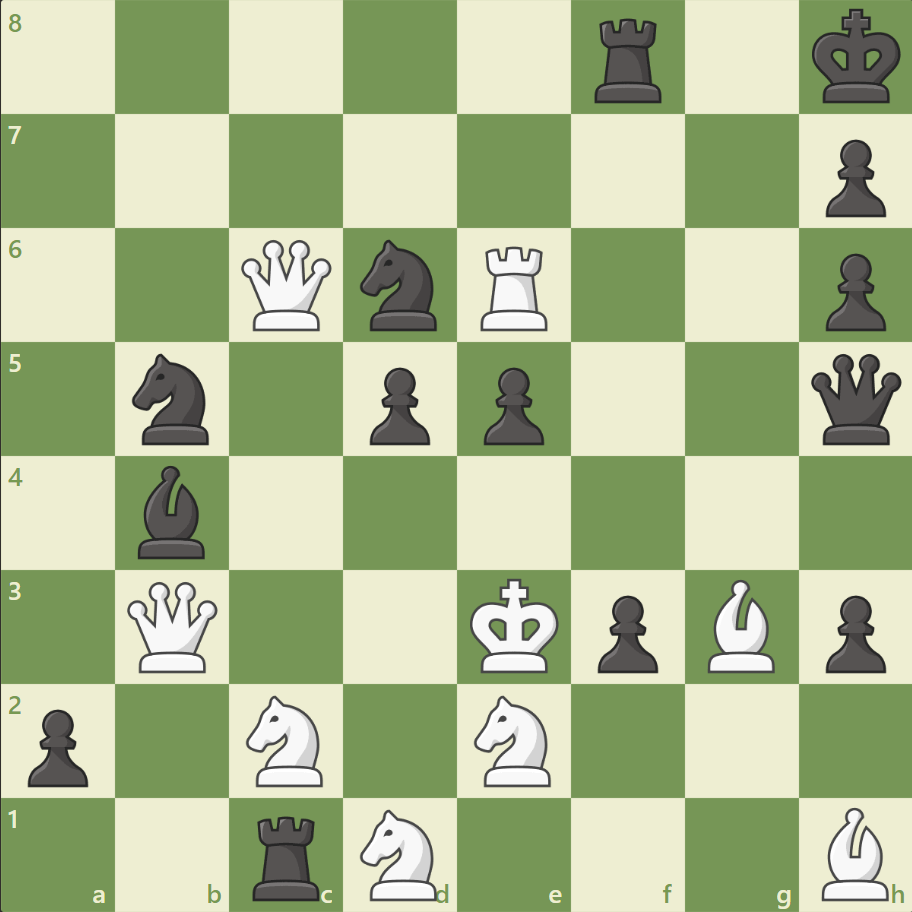B: (812, 801, 896, 904), (698, 574, 782, 676)
K: (465, 571, 565, 679)
N: (351, 802, 449, 904), (238, 688, 335, 791), (465, 688, 562, 791)
Q: (124, 576, 223, 676), (237, 236, 336, 335)
R: (473, 239, 556, 336)
b: (131, 460, 215, 563)
k: (806, 4, 906, 112)
n: (351, 234, 449, 337), (124, 348, 222, 450)
p: (474, 359, 549, 450), (20, 700, 95, 791), (815, 132, 889, 223), (815, 246, 889, 337), (361, 359, 435, 450), (588, 586, 662, 677), (815, 586, 889, 677)
q: (805, 349, 904, 449)
r: (246, 806, 329, 904), (587, 12, 670, 109)
